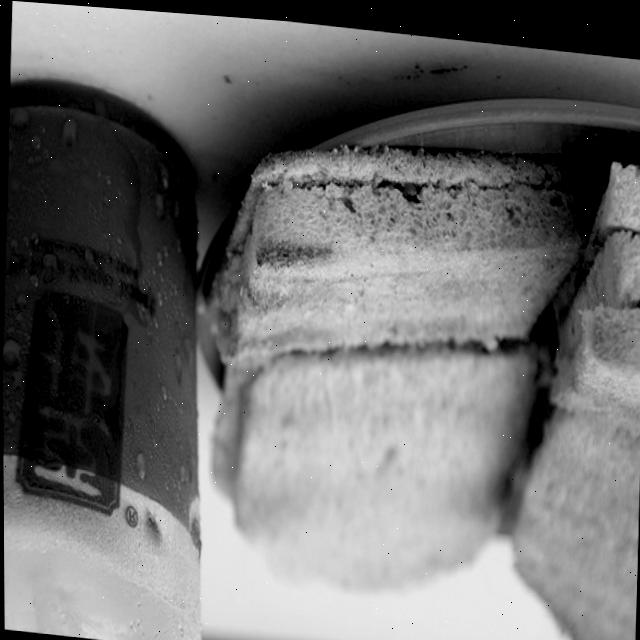面包点心: (186, 12, 640, 640)
